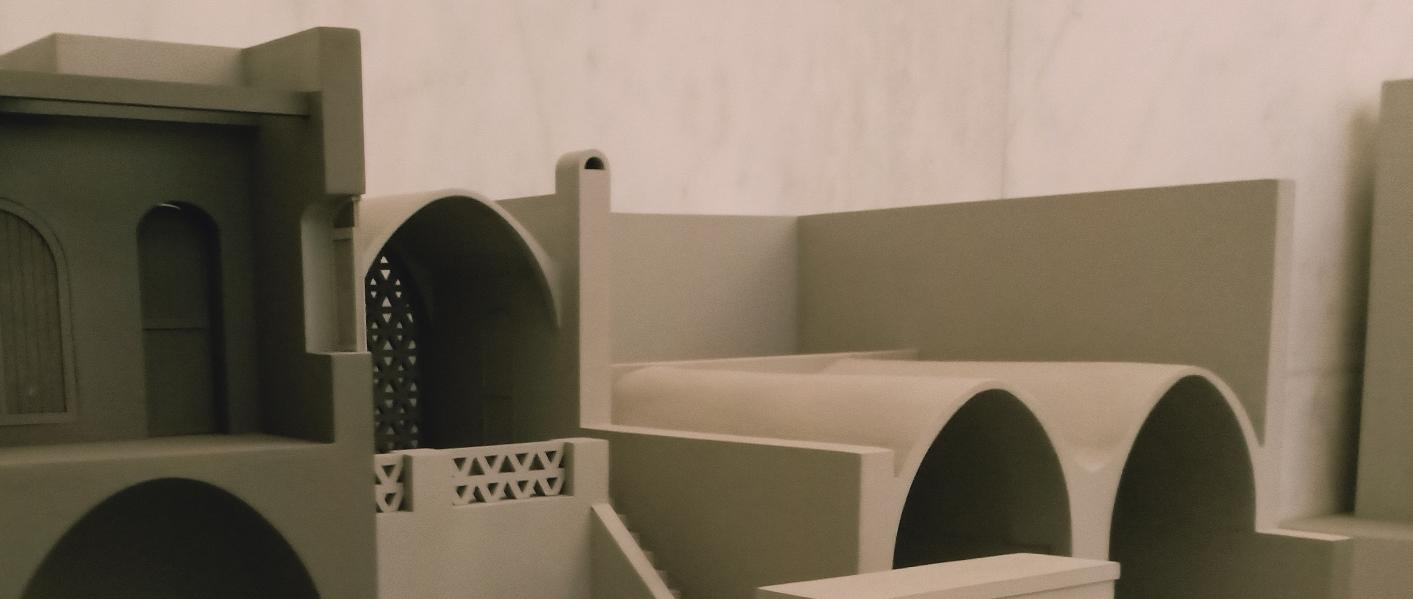HassanFathi: (0, 0, 1385, 599)
